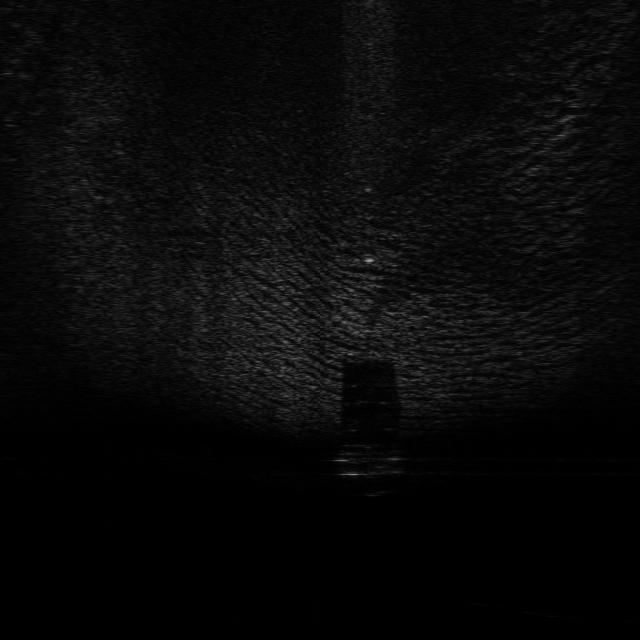cube: (334, 445, 404, 478)
